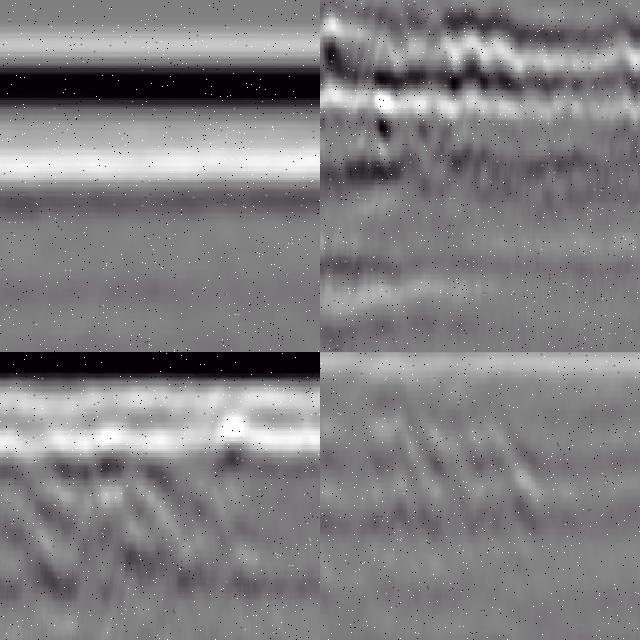loose: (1, 422, 255, 589), (321, 411, 536, 585), (321, 1, 531, 127)
